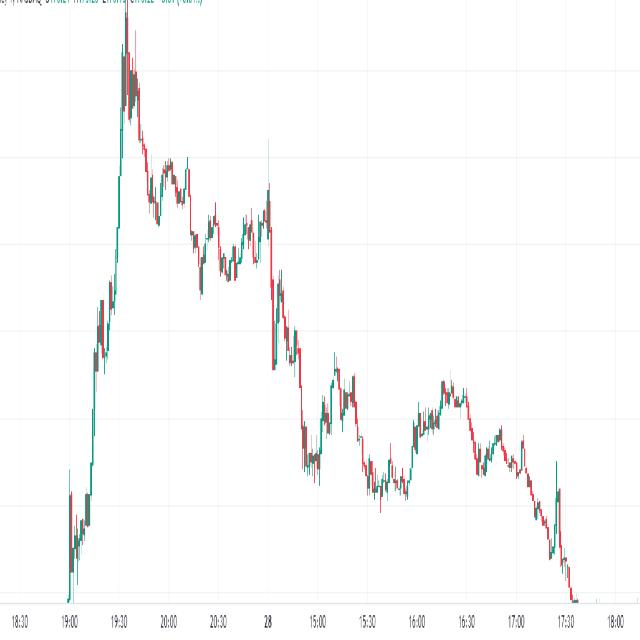Ascending-Triangle: (180, 201, 316, 341)
